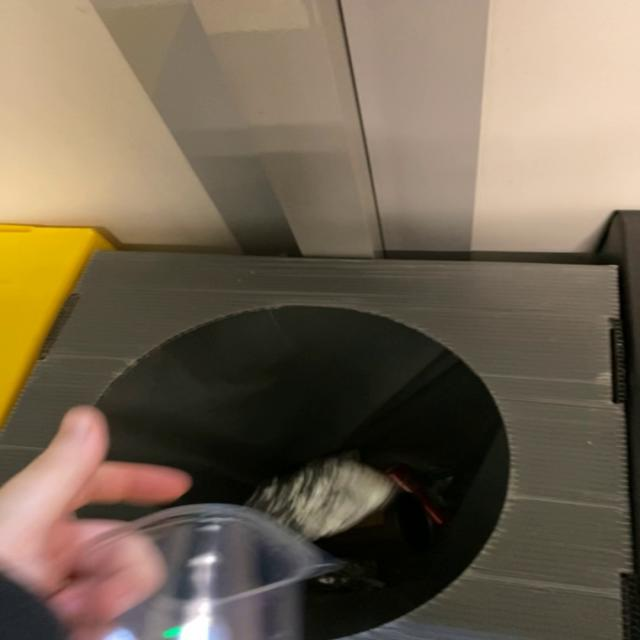bin: (1, 251, 632, 640)
metal: (245, 452, 395, 541)
